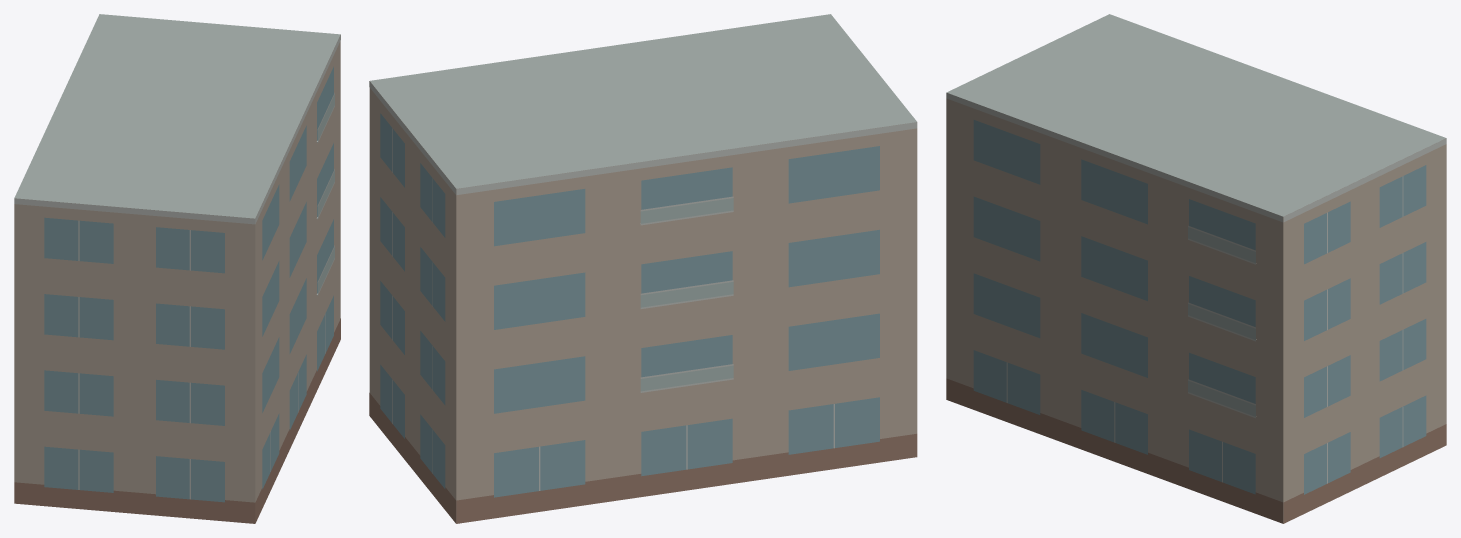
File: survey-upis-32831240.glb
3 renders of one model, left to right at view 1: azimuth 30°, elevation 25°; view 2: azimuth 150°, elevation 25°; view 3: azimuth 270°, elevation 25°, orthographic. The views are drawn at different scales.
Parts seen in each view (by area): view 1: survey-upis-32831240.tmp; view 2: survey-upis-32831240.tmp; view 3: survey-upis-32831240.tmp.
Boxes of the visible parts, box(x1,y1,x2,y2) form: survey-upis-32831240.tmp: box(14, 14, 340, 523); survey-upis-32831240.tmp: box(369, 14, 917, 523); survey-upis-32831240.tmp: box(946, 14, 1446, 523).
Size of the model in its own units: 18.12 by 12.8 by 18.9.
